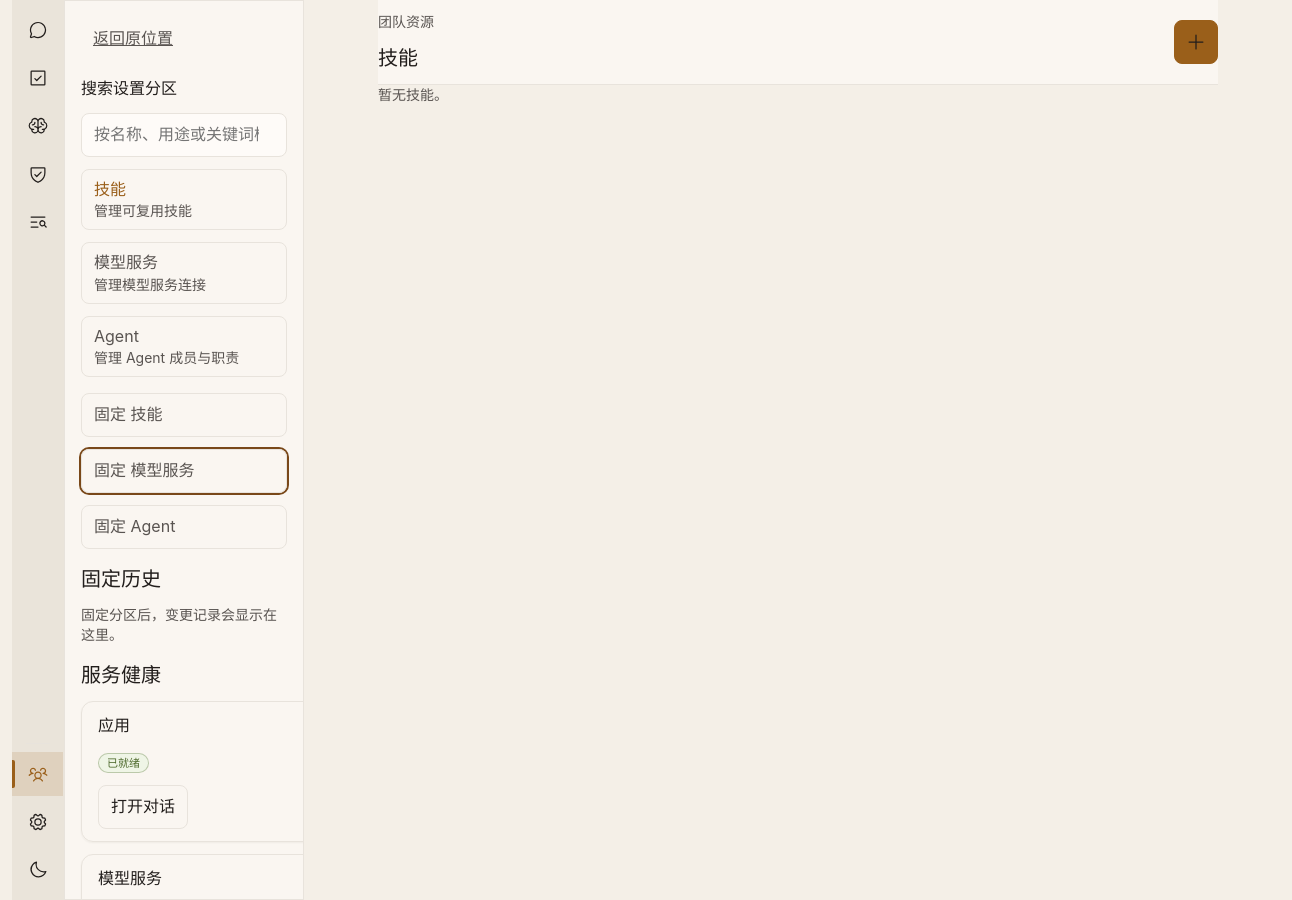
Scenario: settings pinning UI › announces a failed write without moving focus or publishing a shortcut
Click the button with aria-label "固定模型服务".
click(184, 471)  # box [81, 449, 287, 493]
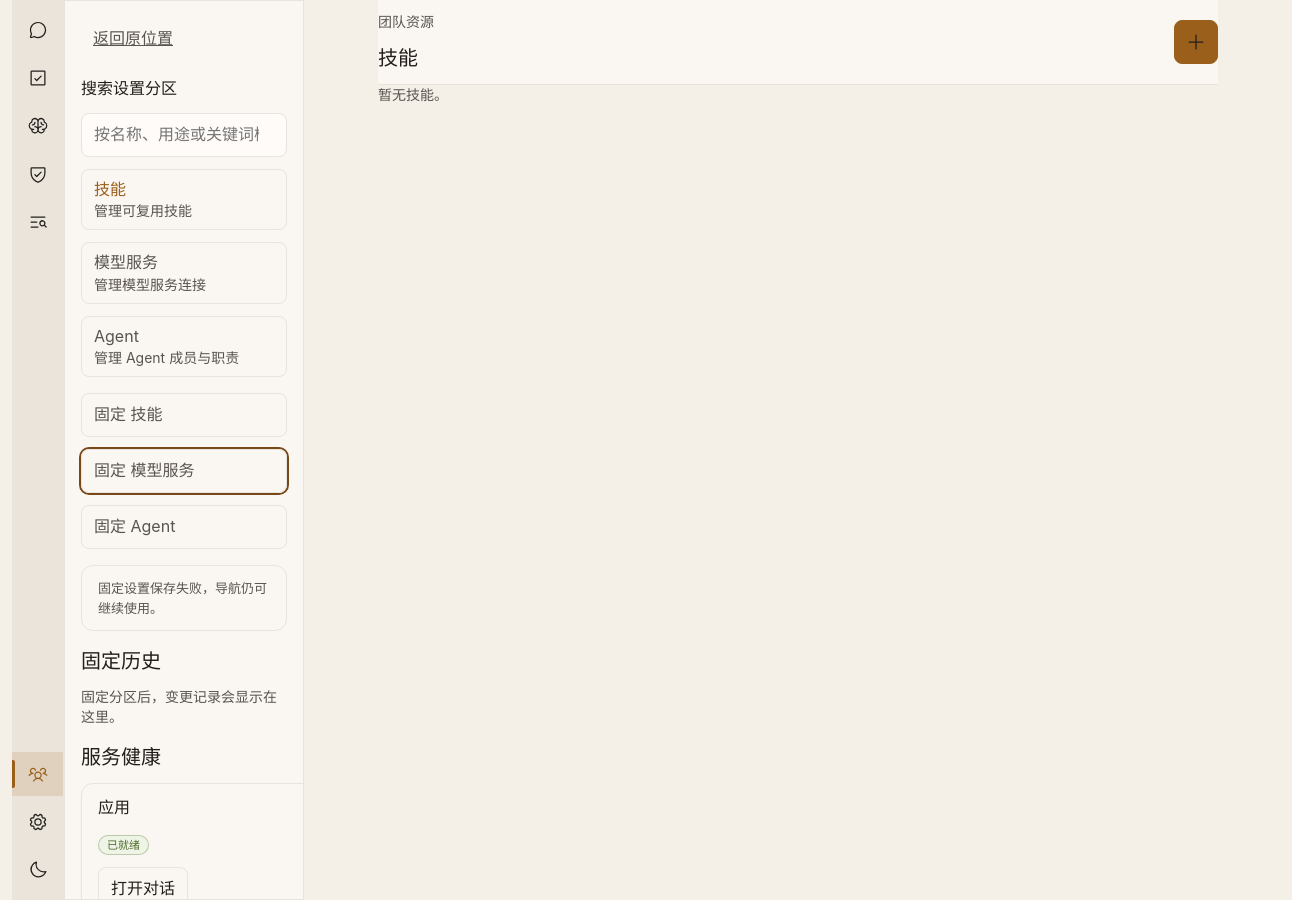
Check: the message reads "固定设置保存失败，导航仍可继续使用。", box [98, 580, 267, 616]
